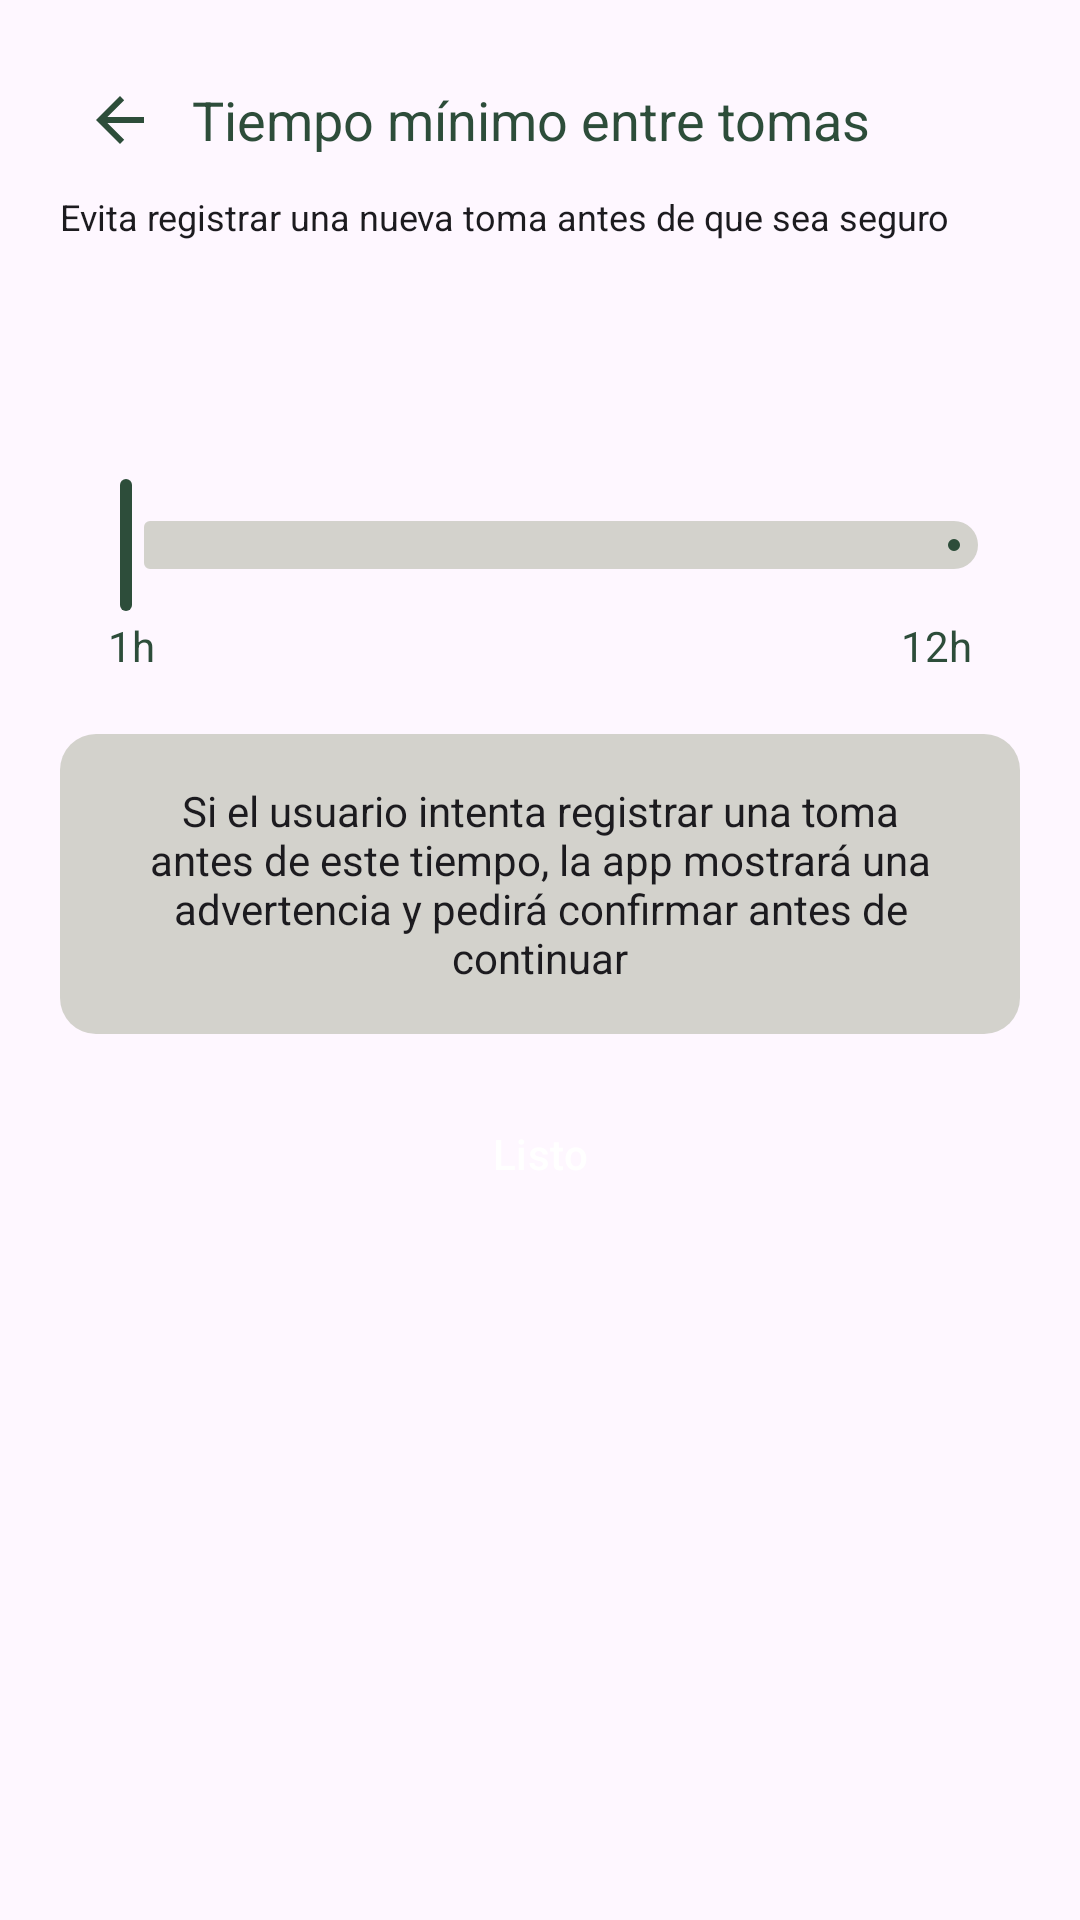

Where to tap for icons on this 1080 x 1920 app screen, as point (x, y):
Atrás: point (120, 120)
